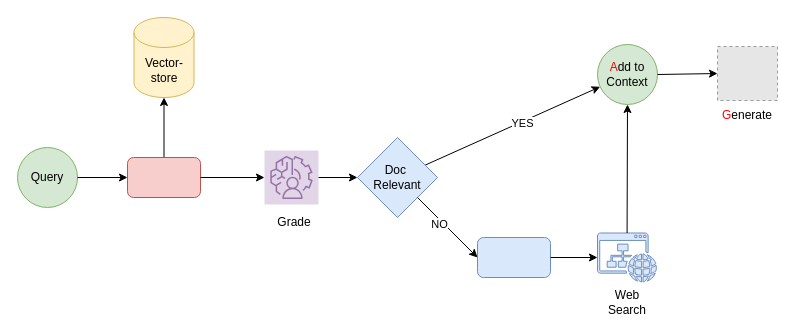
The diagram is 795 pixels wide and 335 high, and some of its shapes have lost their labels. Grey dashed boxes stand in for pictures. The box of each missing label's shape, as (x1, y1, x2, y2) in pixels:
R etrieve: (126, 156, 200, 198)
Re-write Query: (476, 236, 550, 278)
